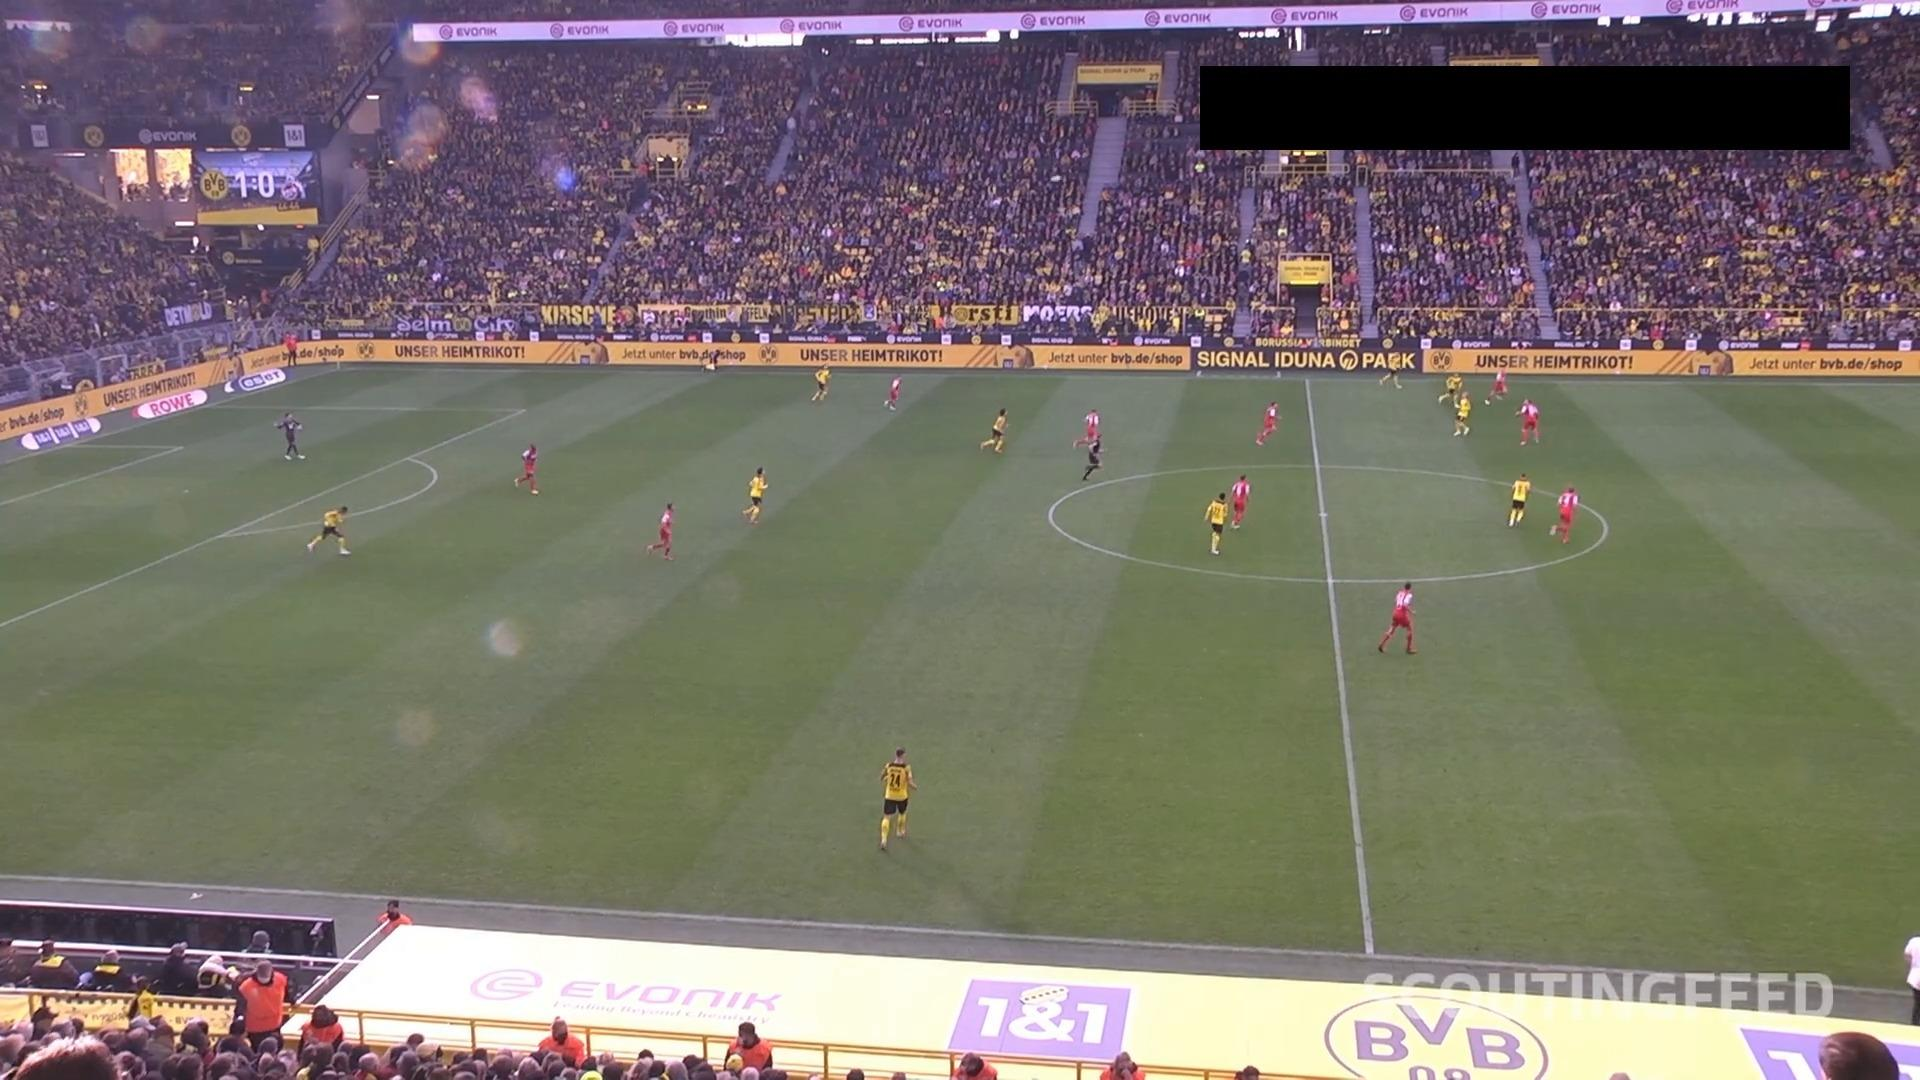player: (877, 746, 917, 851), (1376, 580, 1416, 654), (305, 503, 351, 555), (1073, 408, 1103, 480), (1548, 484, 1578, 544), (645, 502, 675, 560), (1203, 491, 1228, 554), (274, 411, 305, 460), (742, 466, 768, 524), (512, 443, 539, 495), (1506, 471, 1530, 527), (980, 407, 1008, 453), (1514, 396, 1540, 445), (1228, 472, 1250, 529), (1255, 400, 1280, 446), (1483, 365, 1508, 405), (1377, 351, 1402, 389), (1451, 391, 1472, 436), (1437, 372, 1463, 405), (810, 364, 830, 403), (883, 375, 902, 410)
referee: (1080, 436, 1103, 480), (282, 331, 298, 366), (709, 347, 721, 370)
